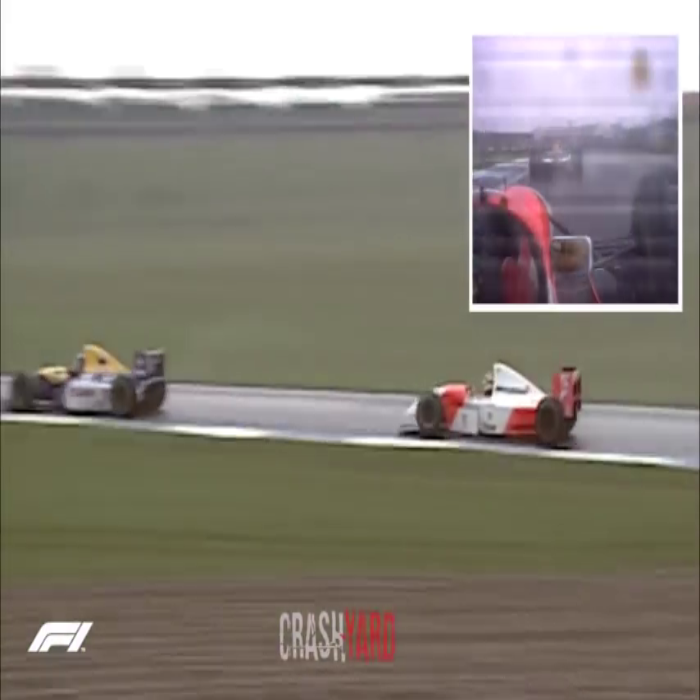f1_car: (397, 346, 600, 457), (3, 330, 189, 443)
